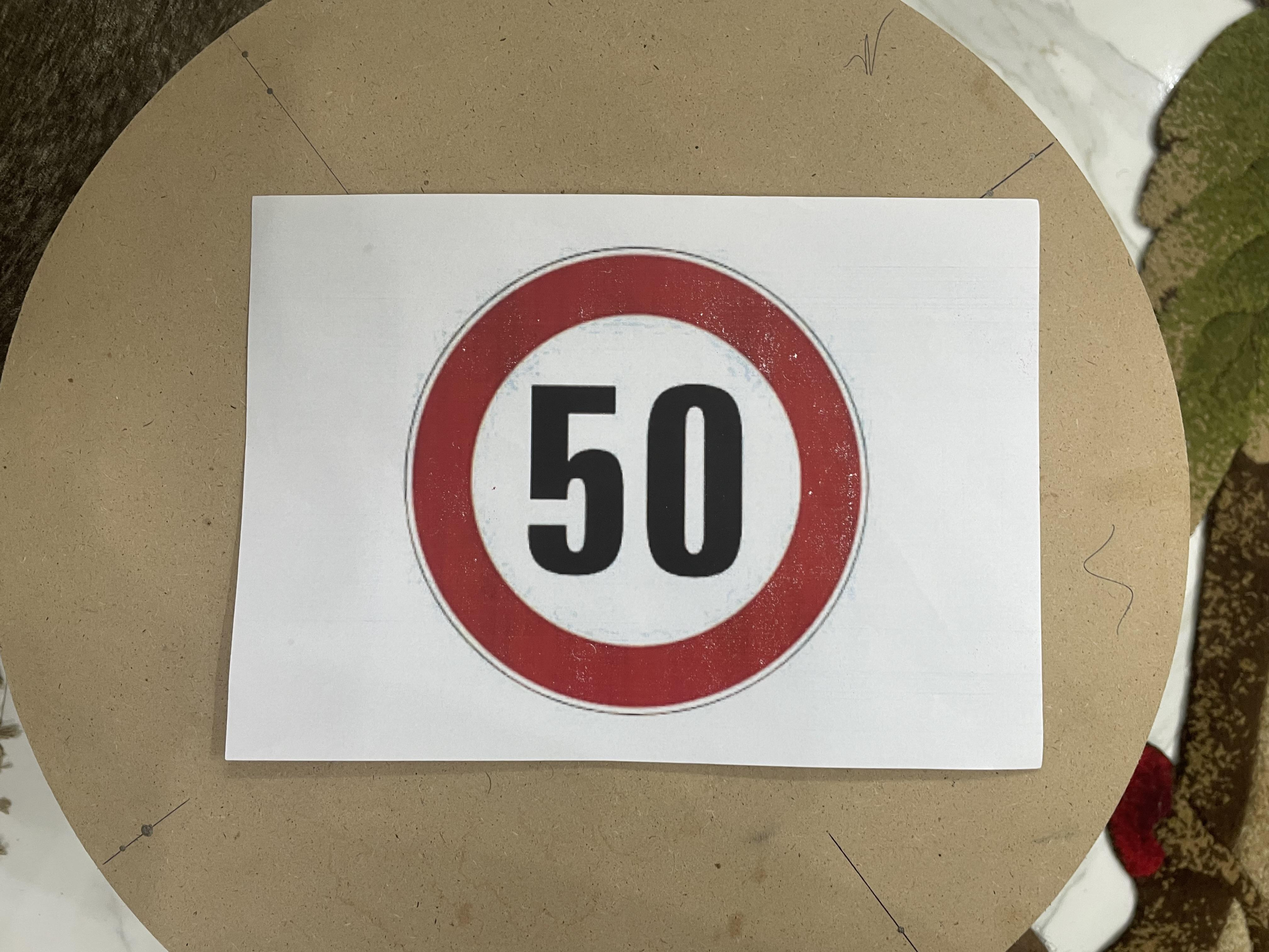50-Speed: (394, 236, 862, 699)
